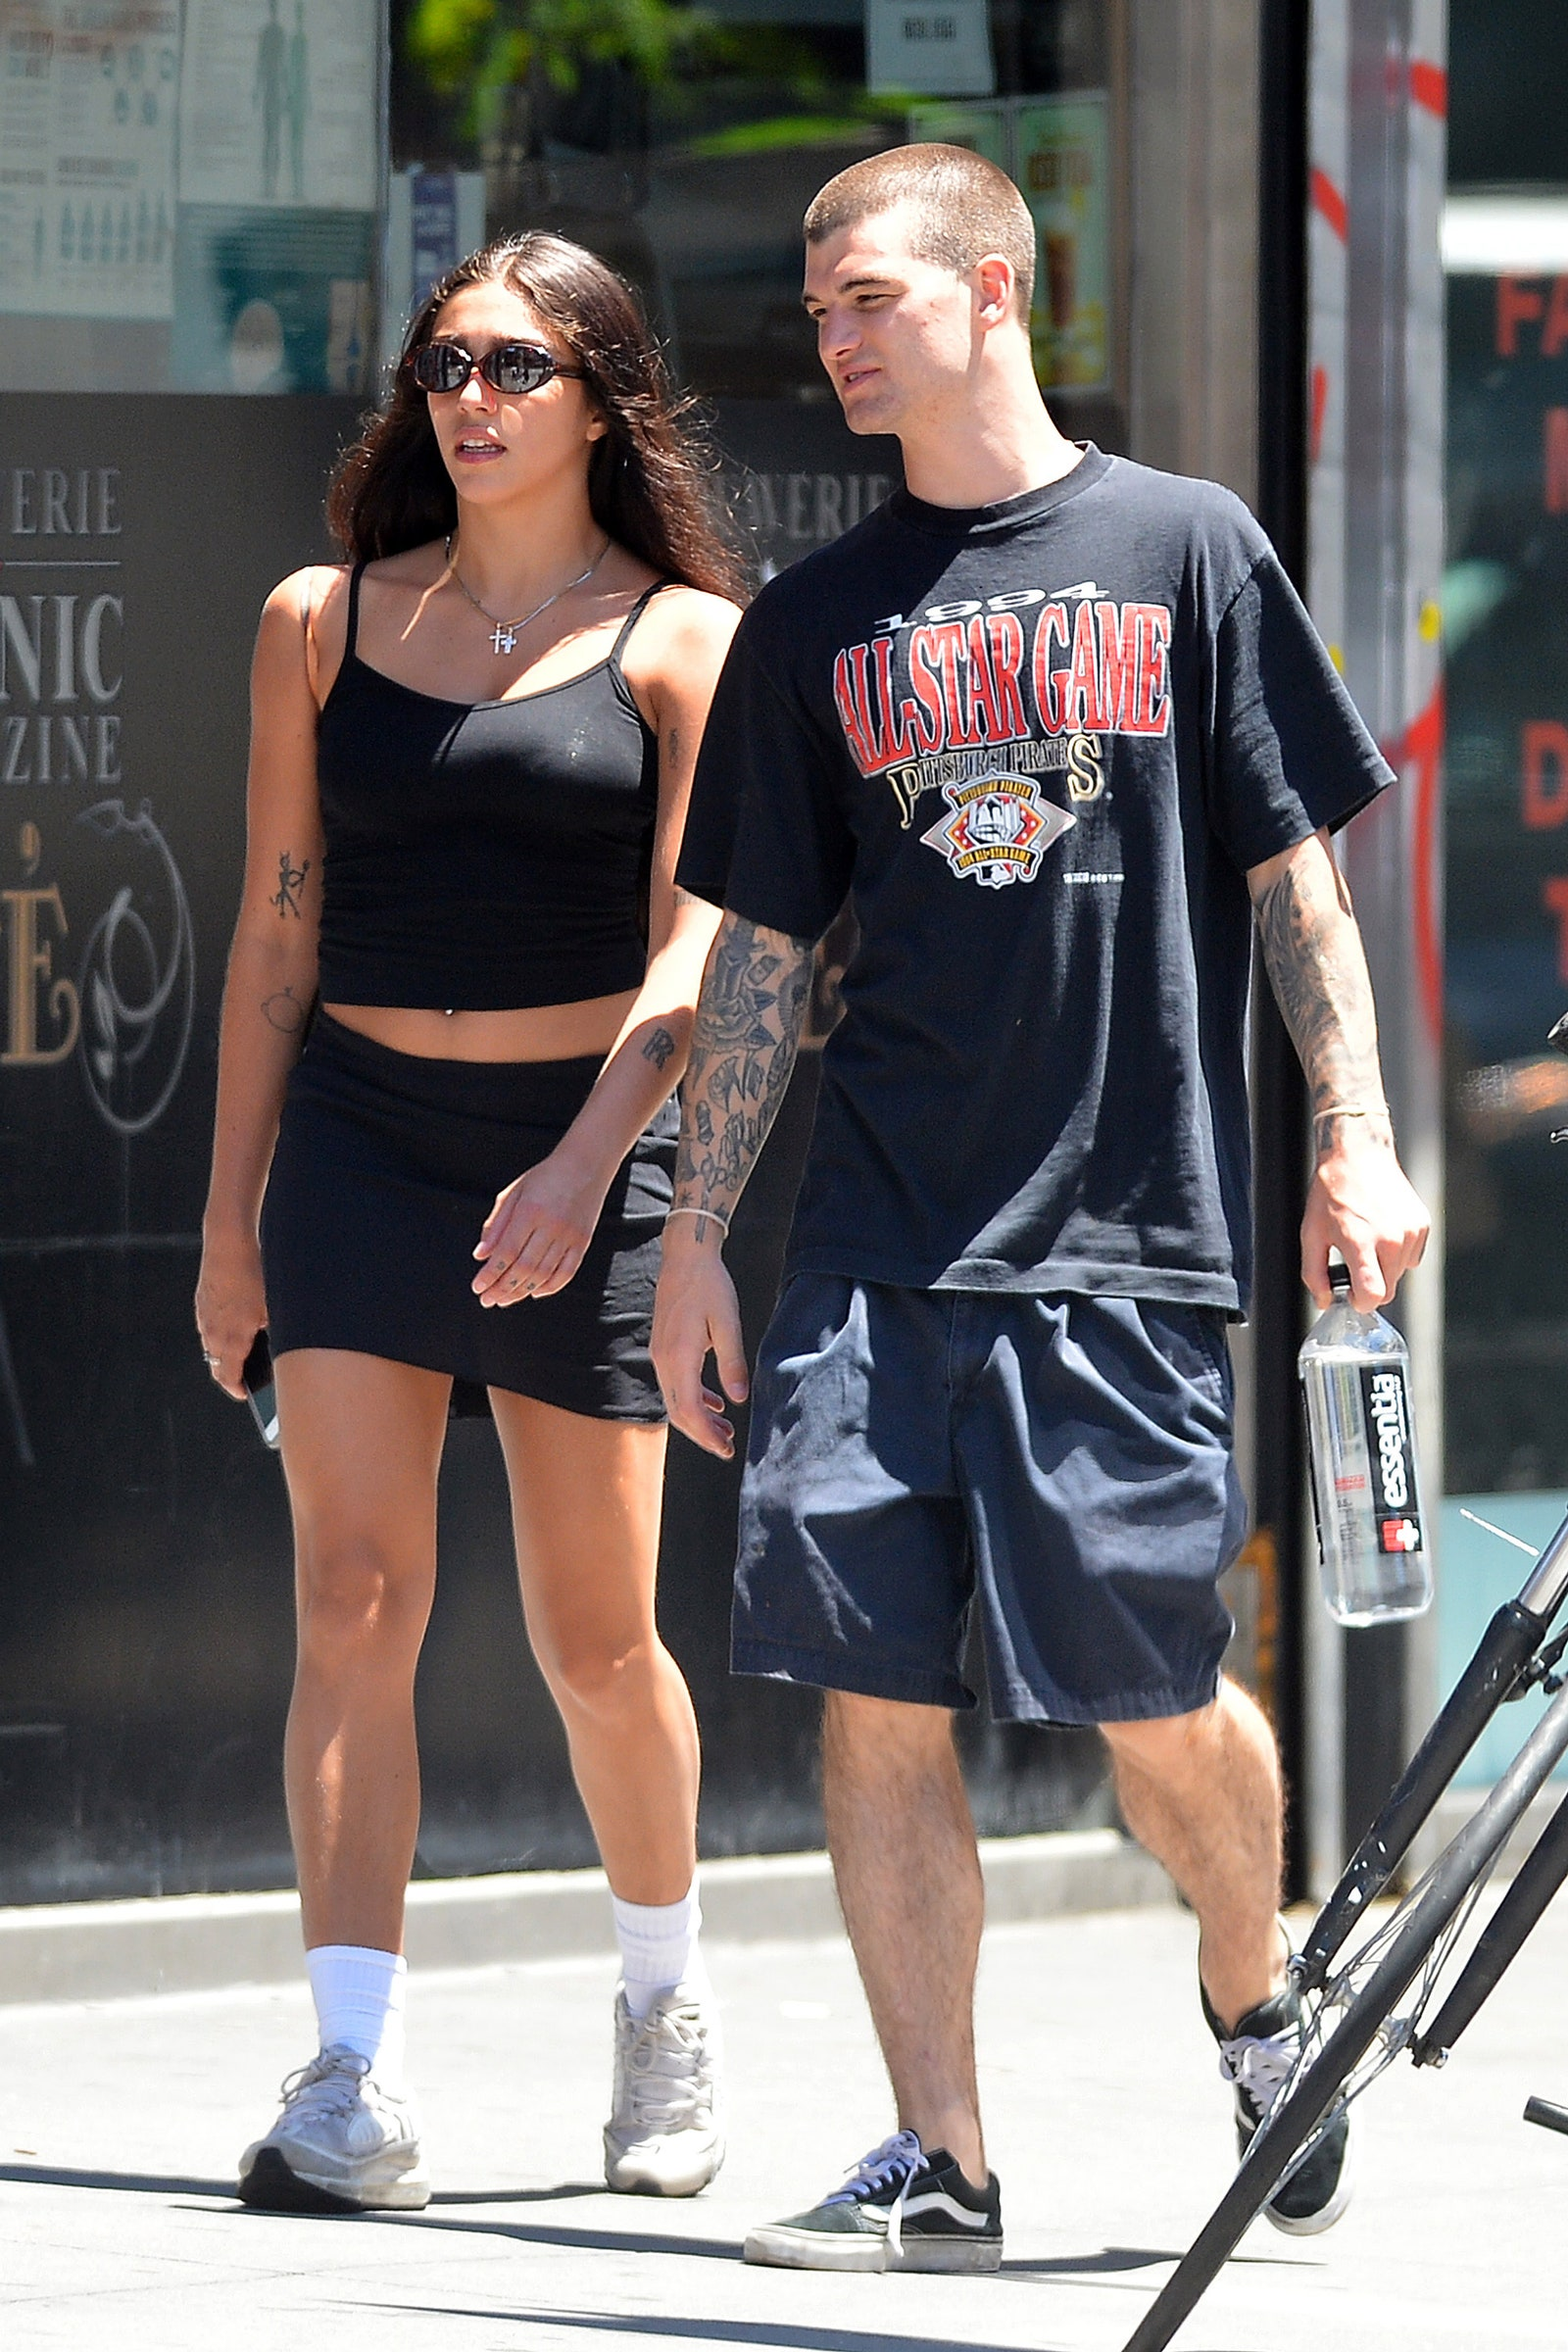Person: (657, 141, 1468, 2328), (178, 223, 747, 2219)
